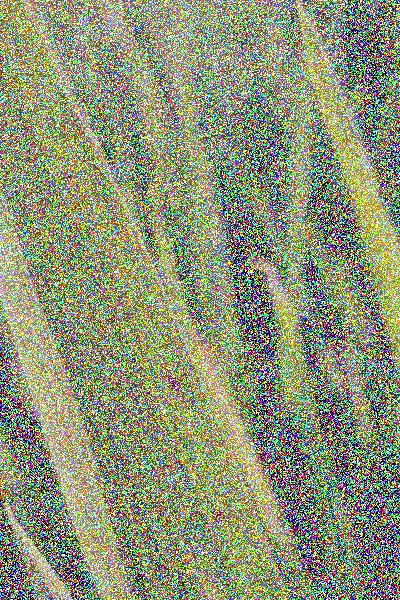Bacterial_Leaf_Blight: (159, 354, 187, 399), (59, 156, 84, 192), (203, 500, 230, 527)
